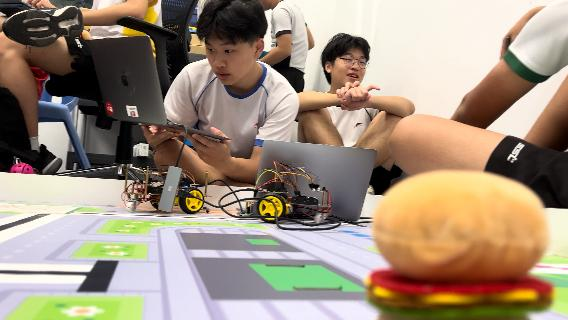burger: (366, 168, 556, 320)
